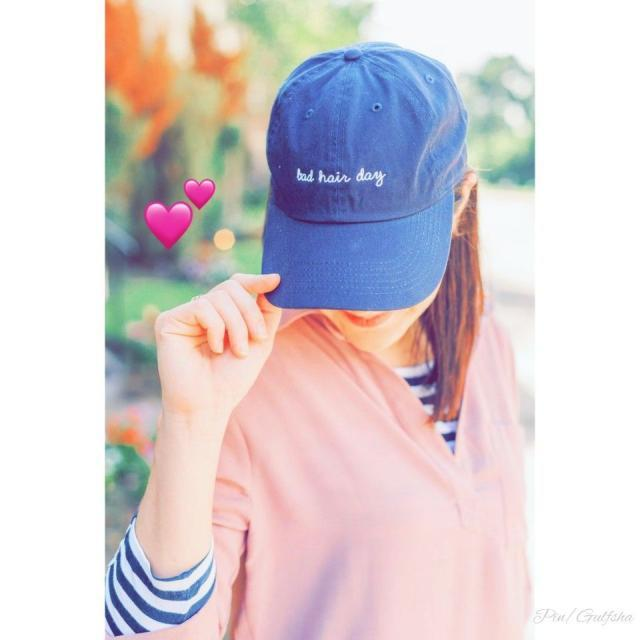cap: (215, 25, 510, 347)
